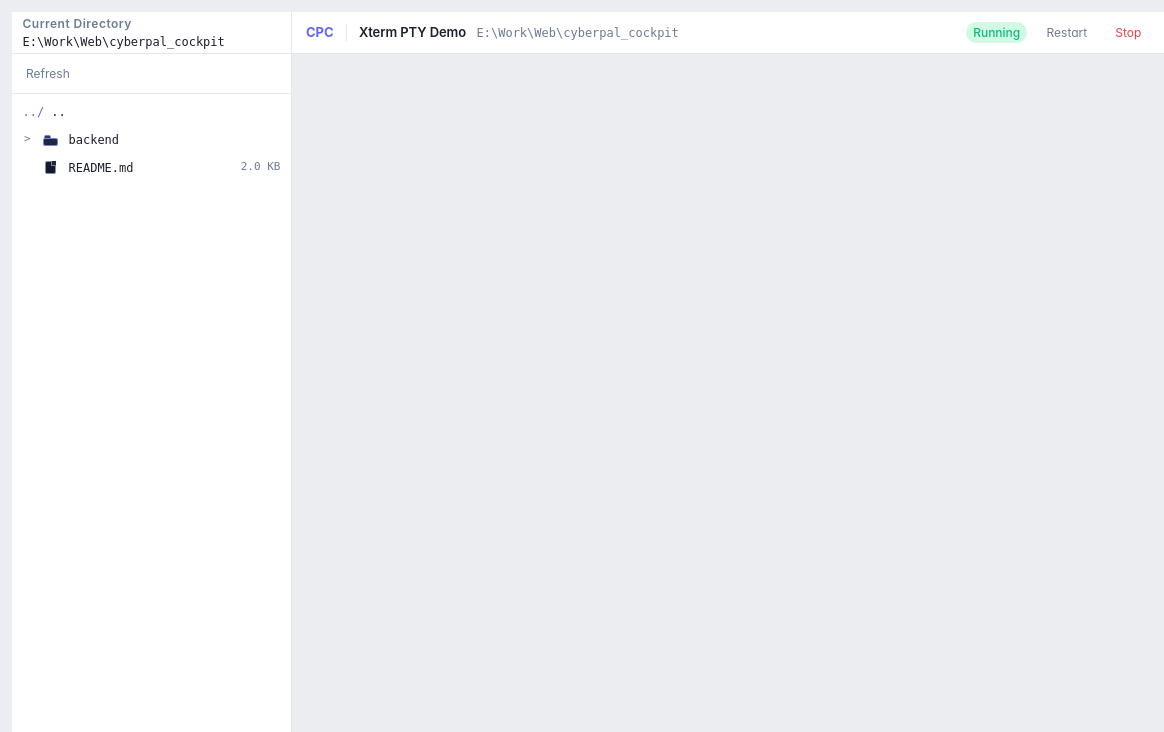
TerminalDemoPage › updates the file panel path when clicking a directory without sending terminal input
Click the text ">": click(27, 139) [24,132,31,145]
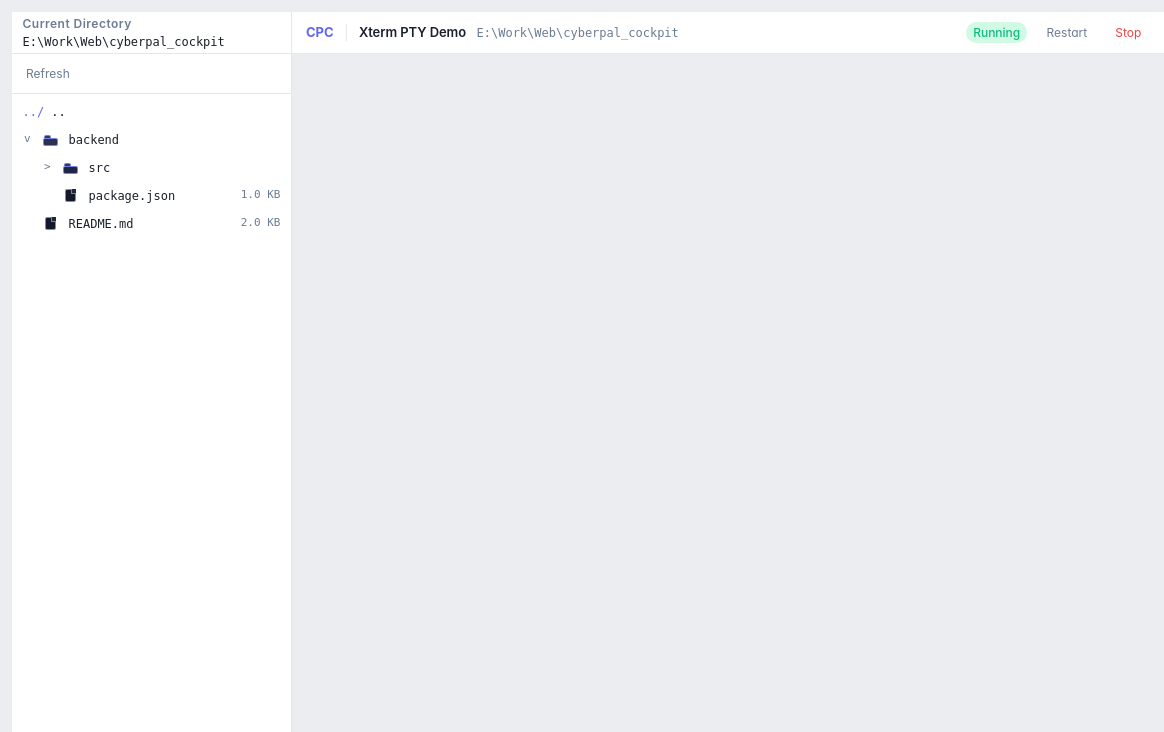
Expected: the text "src" is shown, [88,160,110,174]
Expected: the text "package.json" is shown, [88,188,175,202]
